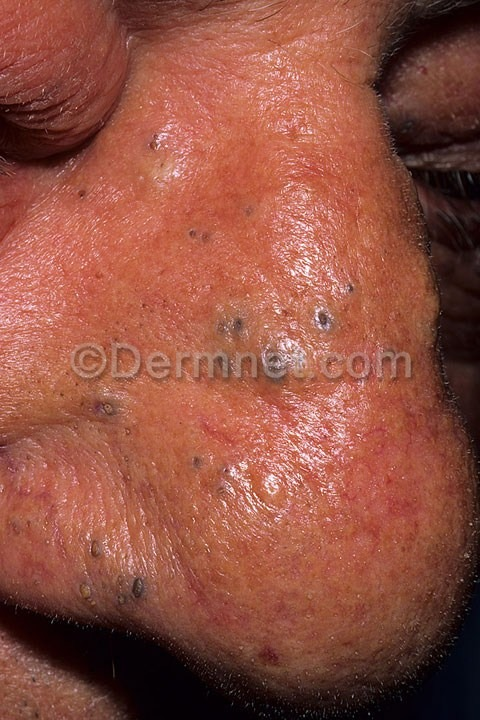Melasma: (2, 390, 410, 720), (127, 86, 374, 346)
